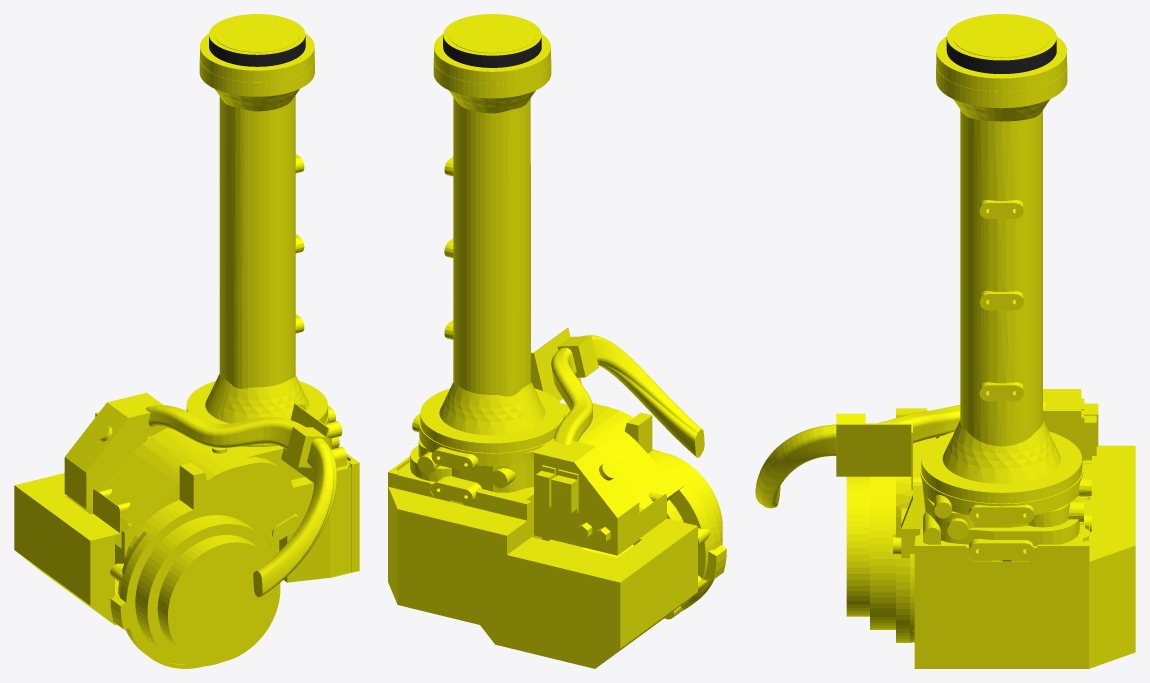
3 renders of one model, left to right at view 1: azimuth 30°, elevation 25°; view 2: azimuth 150°, elevation 25°; view 3: azimuth 270°, elevation 25°, orthographic. The views are drawn at different scales.
Visible parts, largest first — view 1: node; view 2: node; view 3: node.
Boxes of the visible parts, bbox=[...] form: node: bbox=[14, 14, 359, 668]; node: bbox=[388, 14, 726, 668]; node: bbox=[755, 14, 1135, 668].
Bounding box in the file's own units: 552 × 1218 × 643.
